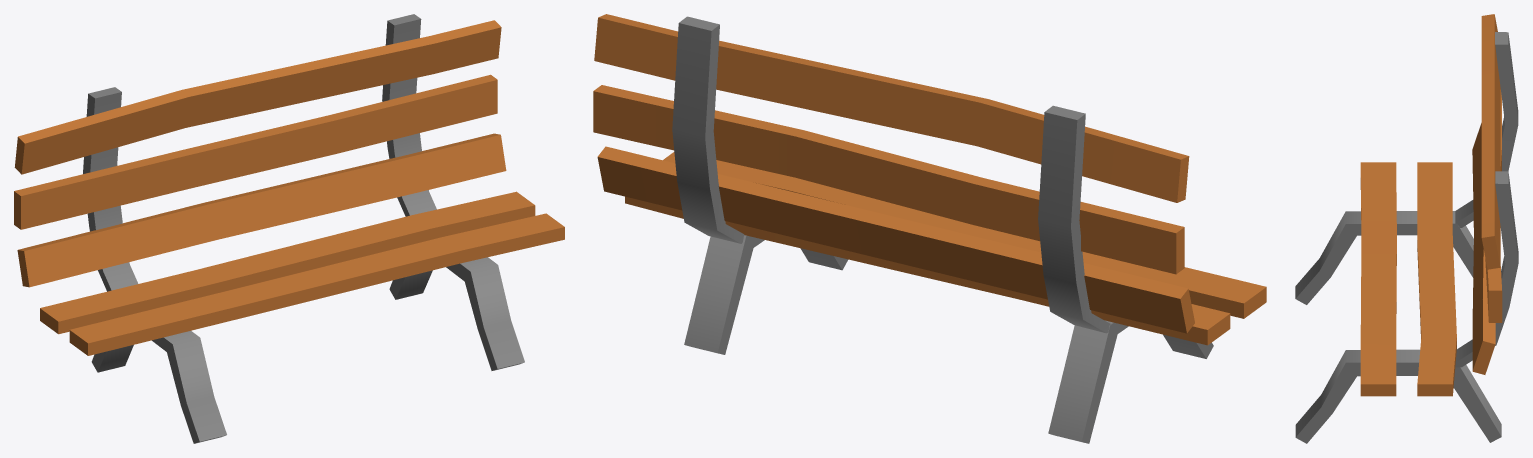
The model's file is Banco.fbx.
3 renders of one model, left to right at view 1: azimuth 30°, elevation 25°; view 2: azimuth 150°, elevation 25°; view 3: azimuth 270°, elevation 25°, orthographic. The views are drawn at different scales.
Visible parts, largest first — view 1: Banco; view 2: Banco; view 3: Banco.
Boxes of the visible parts, bbox=[...] form: Banco: bbox=[14, 14, 564, 443]; Banco: bbox=[593, 14, 1266, 443]; Banco: bbox=[1295, 14, 1518, 443].
Size of the model in its own units: 6.56 by 3.59 by 2.79.
